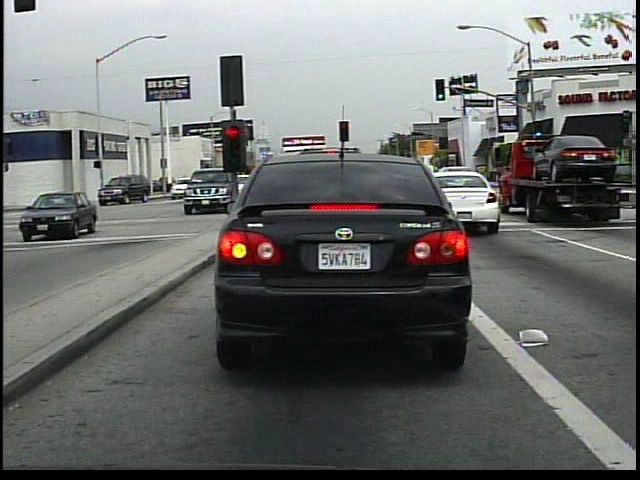person: (182, 174, 203, 199)
